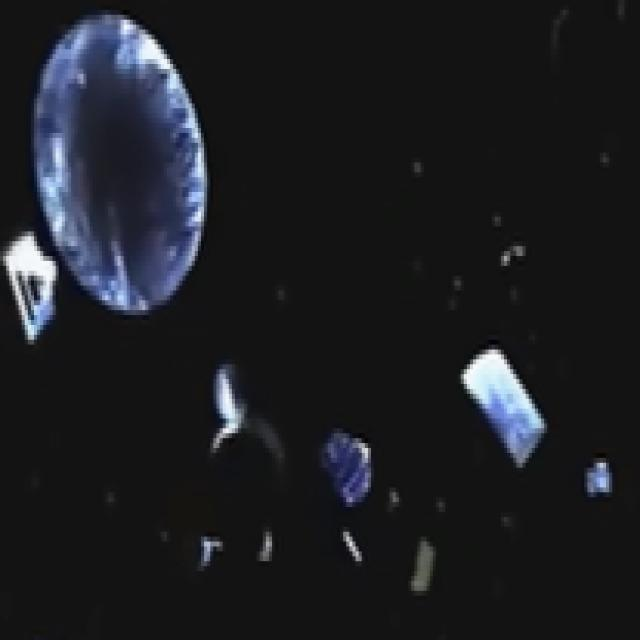large_debris: (10, 2, 234, 344), (456, 290, 549, 516), (194, 340, 284, 484), (322, 394, 386, 531), (186, 526, 294, 597), (403, 521, 450, 614), (576, 434, 621, 516)
